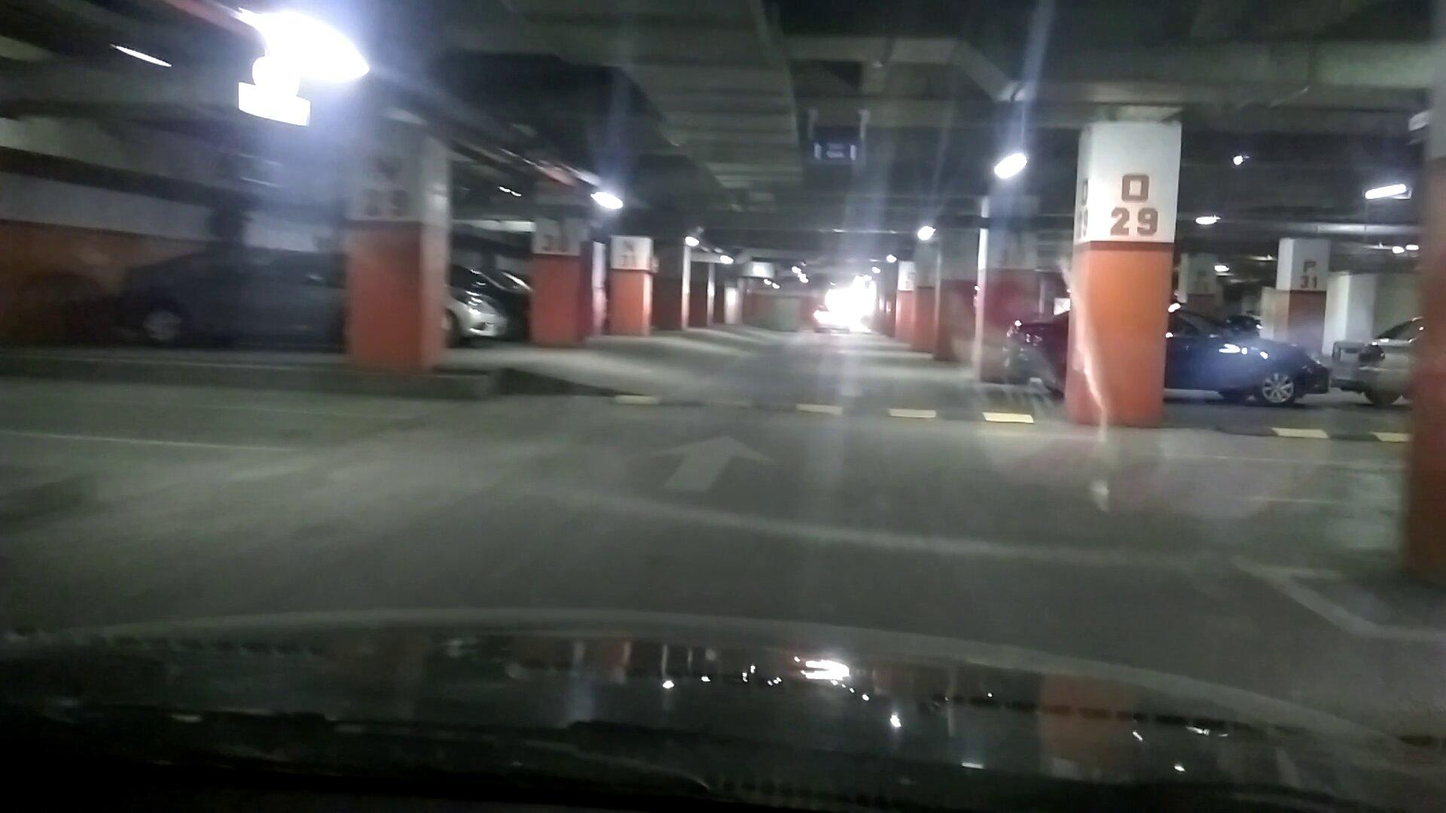Bump: (488, 384, 1051, 444)
